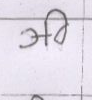i_matra: (50, 7, 67, 43)
